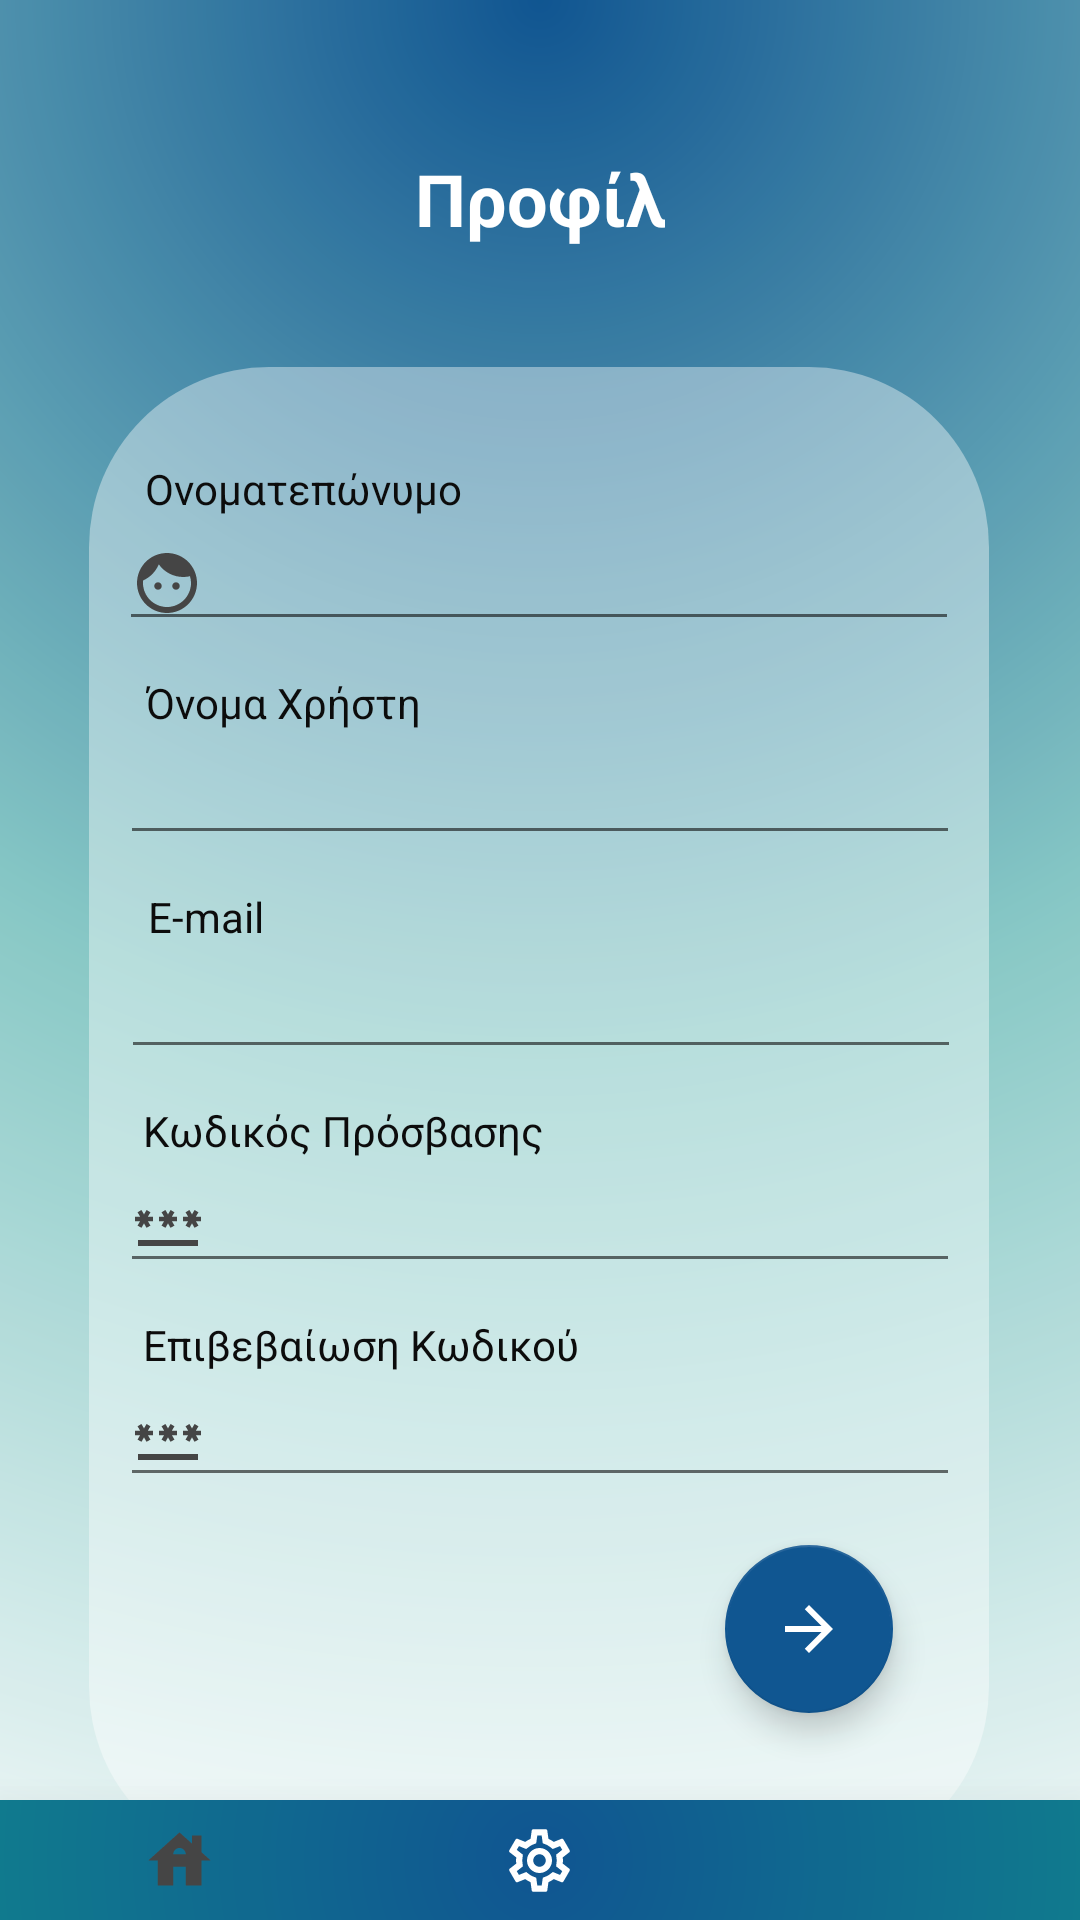

Screen size 1080 × 1920. Icon name, then its box in pixels as [x1,y1,x2,y2]:
arrow forward: [725,1545,893,1713]
